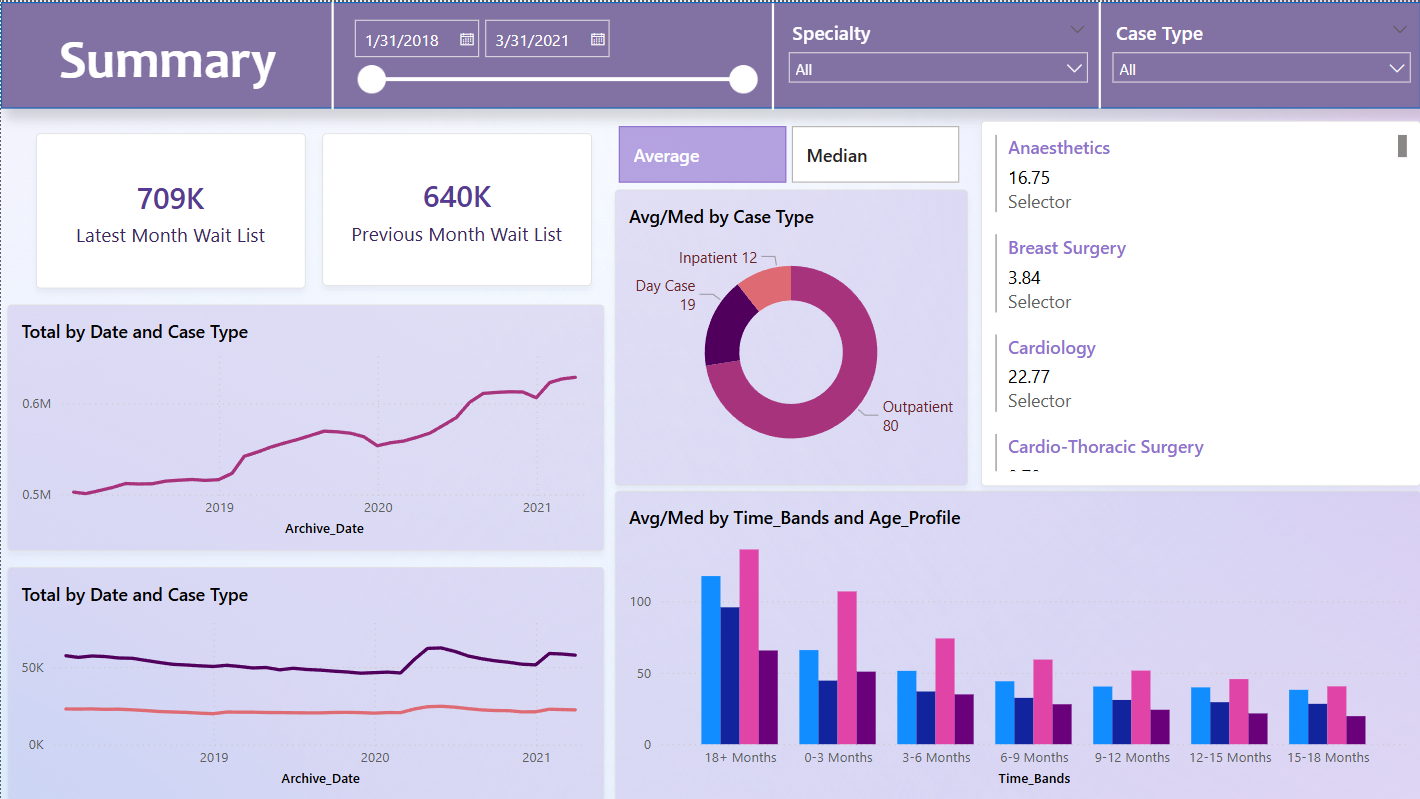

Layout of this report page (visuals, bound fields, positions):
{"tool":"powerbi","page":{"name":"summary","canvas":[1280,720],"ordinal":0},"visuals":[{"type":"shape","box":[0,0,1280.3,96.1],"z":0},{"type":"card","fields":{"Values":["All_Data.Latest Month Wait List"]},"box":[31.6,118,242.9,140],"z":1000},{"type":"card","fields":{"Values":["All_Data.PY Wait List"]},"box":[289.5,118,242.9,137.2],"z":2000},{"type":"bookmarkNavigator","box":[0,0,600,50],"z":3000},{"type":"clusteredColumnChart","title":"Avg/Med by Time_Bands and Age_Profile","fields":{"Category":["All_Data.Time_Bands"],"Series":["All_Data.Age_Profile"],"Y":["All_Data.Selector"]},"box":[553,440.5,727.3,279.9],"z":4000},{"type":"multiRowCard","fields":{"Values":["Mapping_Specialty.Specialty","All_Data.Selector"]},"box":[883.7,107,396.6,329.3],"z":5000},{"type":"donutChart","title":"Avg/Med by Case Type","fields":{"Category":["All_Data.Case_Type"],"Y":["All_Data.Selector"]},"box":[553,168.8,318.4,267.6],"z":6000},{"type":"advancedSlicerVisual","fields":{"Values":["Calculation Method.Calc Method"]},"box":[552.3,107.1,318.6,61.2],"z":7000},{"type":"lineChart","title":"Total by Date and Case Type","fields":{"Y":["Sum(All_Data.Total)"],"Series":["All_Data.Case_Type"],"Category":["All_Data.Archive_Date"]},"box":[5.6,509.2,538.4,211.5],"z":8000},{"type":"lineChart","title":"Total by Date and Case Type","fields":{"Y":["Sum(All_Data.Total)"],"Series":["All_Data.Case_Type"],"Category":["All_Data.Archive_Date"]},"box":[5.6,272.7,538.4,222.6],"z":9000},{"type":"slicer","title":"     Time Line","fields":{"Values":["All_Data.Archive_Date"]},"box":[311,10.8,374.6,73.2],"z":10000},{"type":"slicer","fields":{"Values":["All_Data.Case_Type"]},"box":[997.8,15.6,278.6,69.6],"z":11000},{"type":"slicer","fields":{"Values":["Mapping_Specialty.Specialty"]},"box":[706,15.6,279.8,69.6],"z":12000},{"type":"textbox","box":[0,0,300.5,107],"z":13000},{"type":"shape","box":[215.2,0,167.5,96.6],"z":14000},{"type":"shape","box":[612.4,1.2,168.1,96.1],"z":15000},{"type":"shape","box":[907.8,0,166.9,96.1],"z":16000}]}

Visuals, with their boxes in screenshot pixels (x1, y1, x2, y2), scaled from the page's 1280x720 canvas onto the 1420x799 screenshot:
shape: x1=0, y1=0, x2=1419, y2=107
card - All_Data.Latest Month Wait List: x1=35, y1=131, x2=305, y2=286
card - All_Data.PY Wait List: x1=321, y1=131, x2=591, y2=283
bookmarkNavigator: x1=0, y1=0, x2=666, y2=55
"Avg/Med by Time_Bands and Age_Profile" clusteredColumnChart: x1=613, y1=489, x2=1419, y2=798
multiRowCard - Mapping_Specialty.Specialty x All_Data.Selector: x1=980, y1=119, x2=1419, y2=484
"Avg/Med by Case Type" donutChart: x1=613, y1=187, x2=967, y2=484
advancedSlicerVisual - Calculation Method.Calc Method: x1=613, y1=119, x2=966, y2=187
"Total by Date and Case Type" lineChart: x1=6, y1=565, x2=604, y2=798
"Total by Date and Case Type" lineChart: x1=6, y1=303, x2=604, y2=550
"     Time Line" slicer: x1=345, y1=12, x2=761, y2=93
slicer - All_Data.Case_Type: x1=1107, y1=17, x2=1416, y2=95
slicer - Mapping_Specialty.Specialty: x1=783, y1=17, x2=1094, y2=95
textbox: x1=0, y1=0, x2=333, y2=119
shape: x1=239, y1=0, x2=425, y2=107
shape: x1=679, y1=1, x2=866, y2=108
shape: x1=1007, y1=0, x2=1192, y2=107
